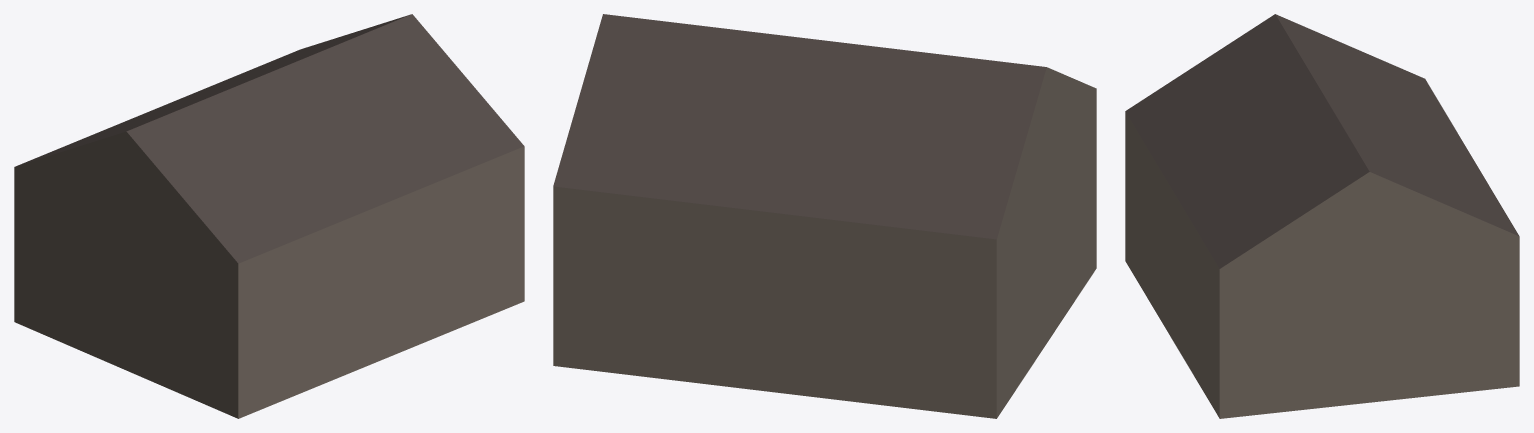
3 renders of one model, left to right at view 1: azimuth 30°, elevation 25°; view 2: azimuth 150°, elevation 25°; view 3: azimuth 270°, elevation 25°, orthographic. The views are drawn at different scales.
Visible parts, largest first — view 1: HP-w859488809; view 2: HP-w859488809; view 3: HP-w859488809.
Part boxes in pixels (x1=…): HP-w859488809: x1=14, y1=14, x2=524, y2=418; HP-w859488809: x1=553, y1=14, x2=1096, y2=418; HP-w859488809: x1=1125, y1=14, x2=1519, y2=418.
Bounding box in the file's own units: 16.33 × 9.24 × 14.3.
